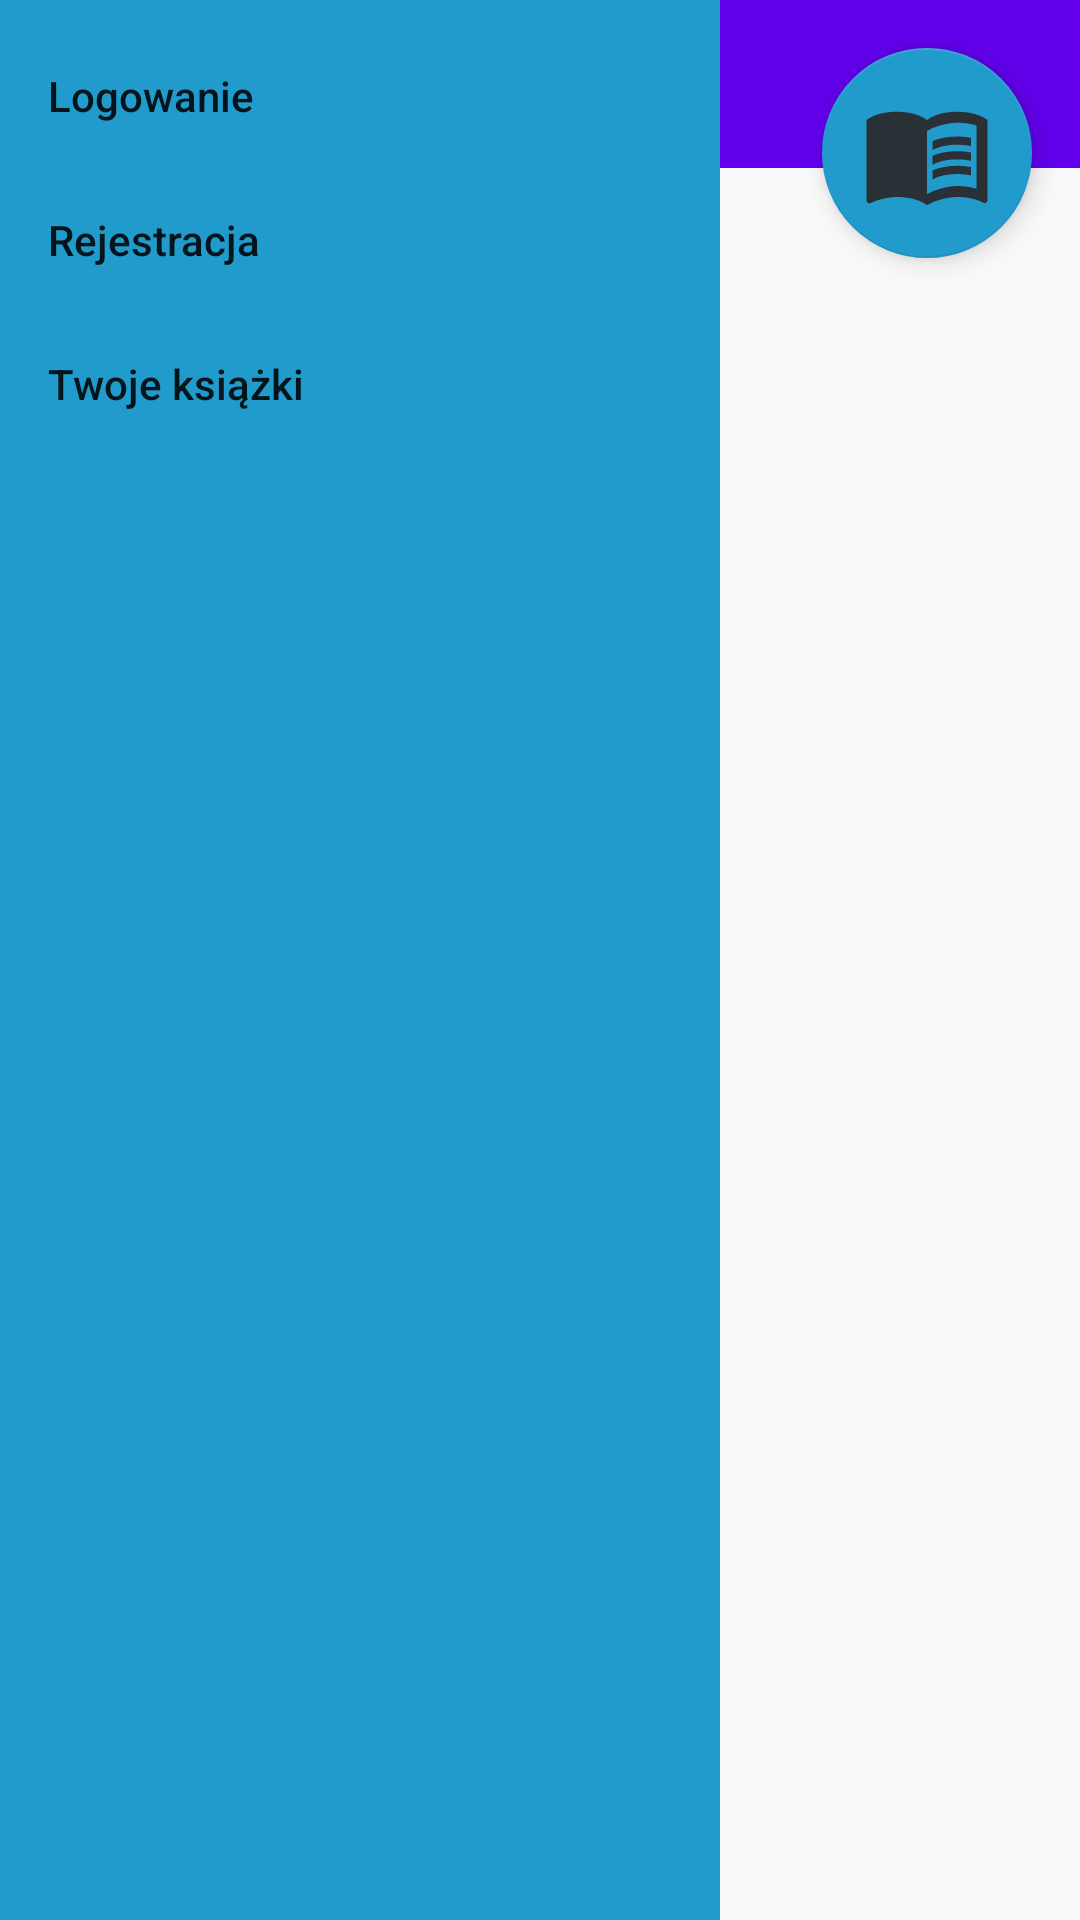

Icons on this 1080px×1920px Android screen, each with the point to tap as (x,y):
book: (927,153)
